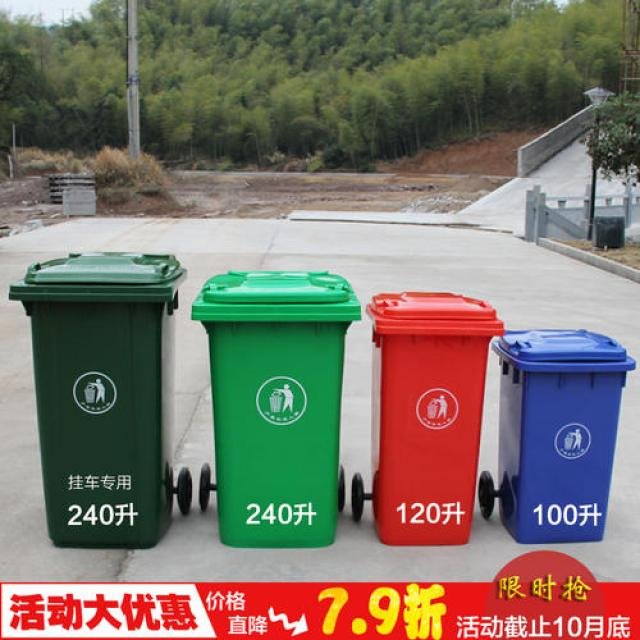garbage_bin: (8, 252, 187, 549), (190, 270, 360, 547), (365, 290, 504, 546), (490, 328, 635, 542)
